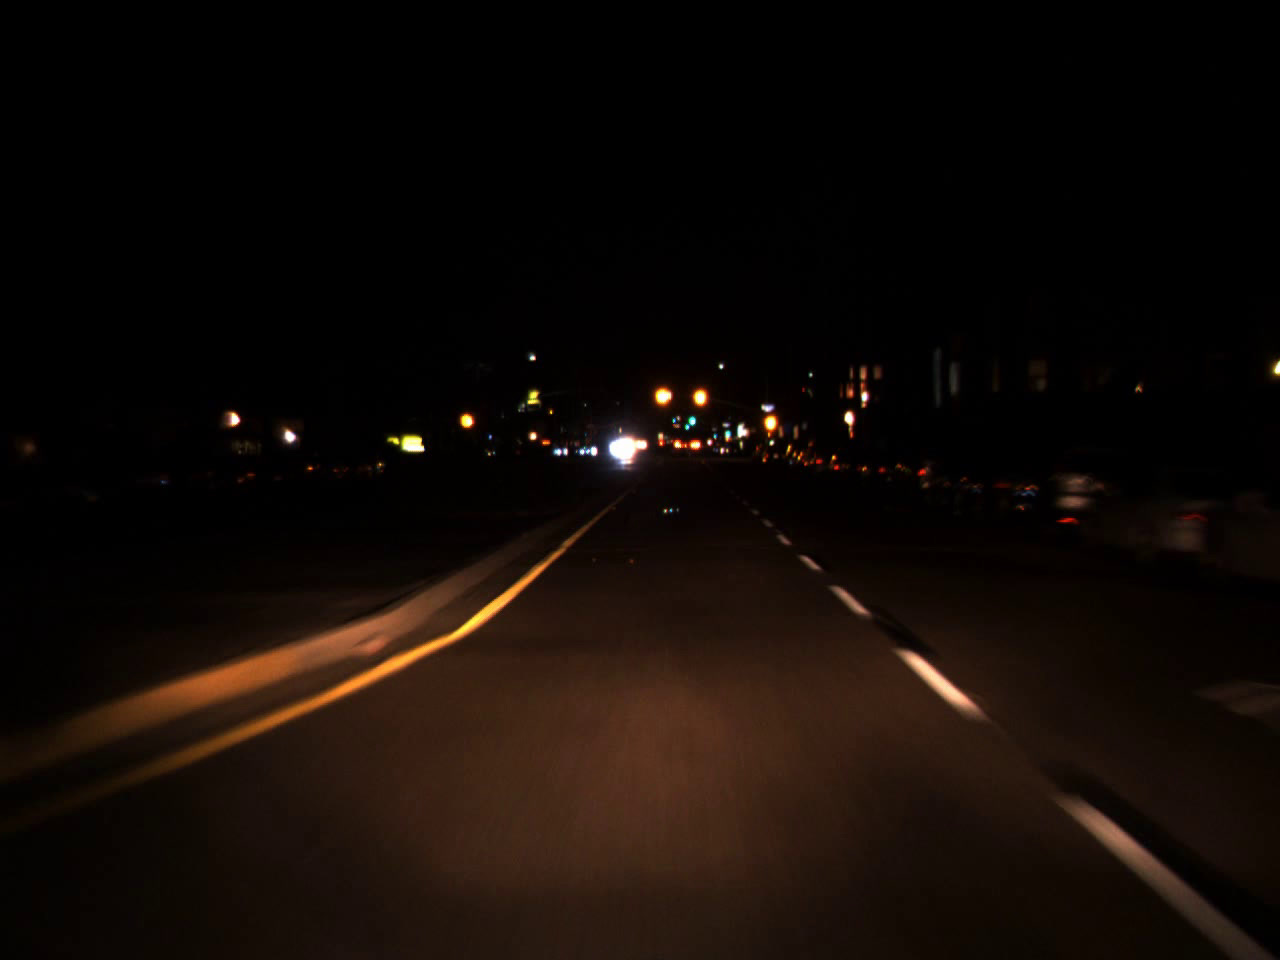go: (687, 405, 696, 429), (722, 421, 732, 439)
warning: (652, 376, 674, 416), (689, 377, 710, 417), (455, 400, 477, 437), (762, 407, 780, 437)
